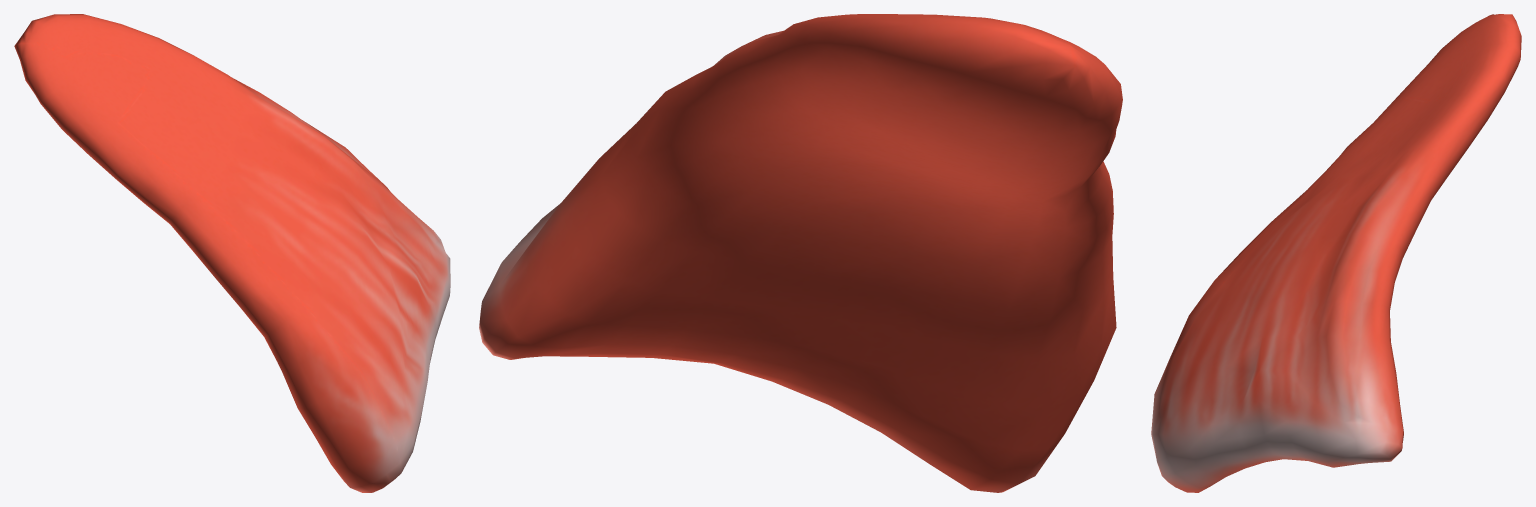
File: Temporal.glb
3 views of the same model, side by side, from view 1: azimuth 30°, elevation 25°; view 2: azimuth 150°, elevation 25°; view 3: azimuth 270°, elevation 25° (orthographic). The views are drawn at different scales.
Visible parts, largest first — view 1: Temporal.glb; view 2: Temporal.glb; view 3: Temporal.glb.
Boxes of the visible parts, box(x1,y1,x2,y2) form: Temporal.glb: box(14, 14, 450, 492); Temporal.glb: box(479, 14, 1122, 492); Temporal.glb: box(1151, 14, 1521, 492).
Bounding box in the file's own units: 0.0646 × 0.0664 × 0.0567.
1 material, 1 textured.
